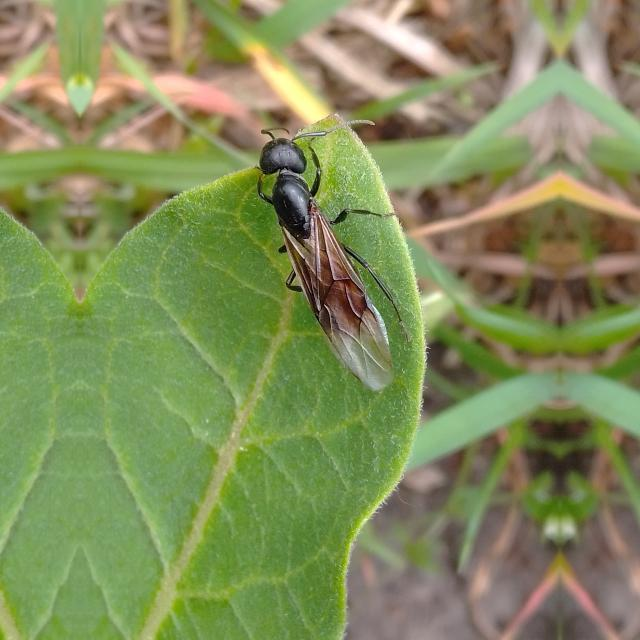Camponotus: (236, 99, 418, 364)
